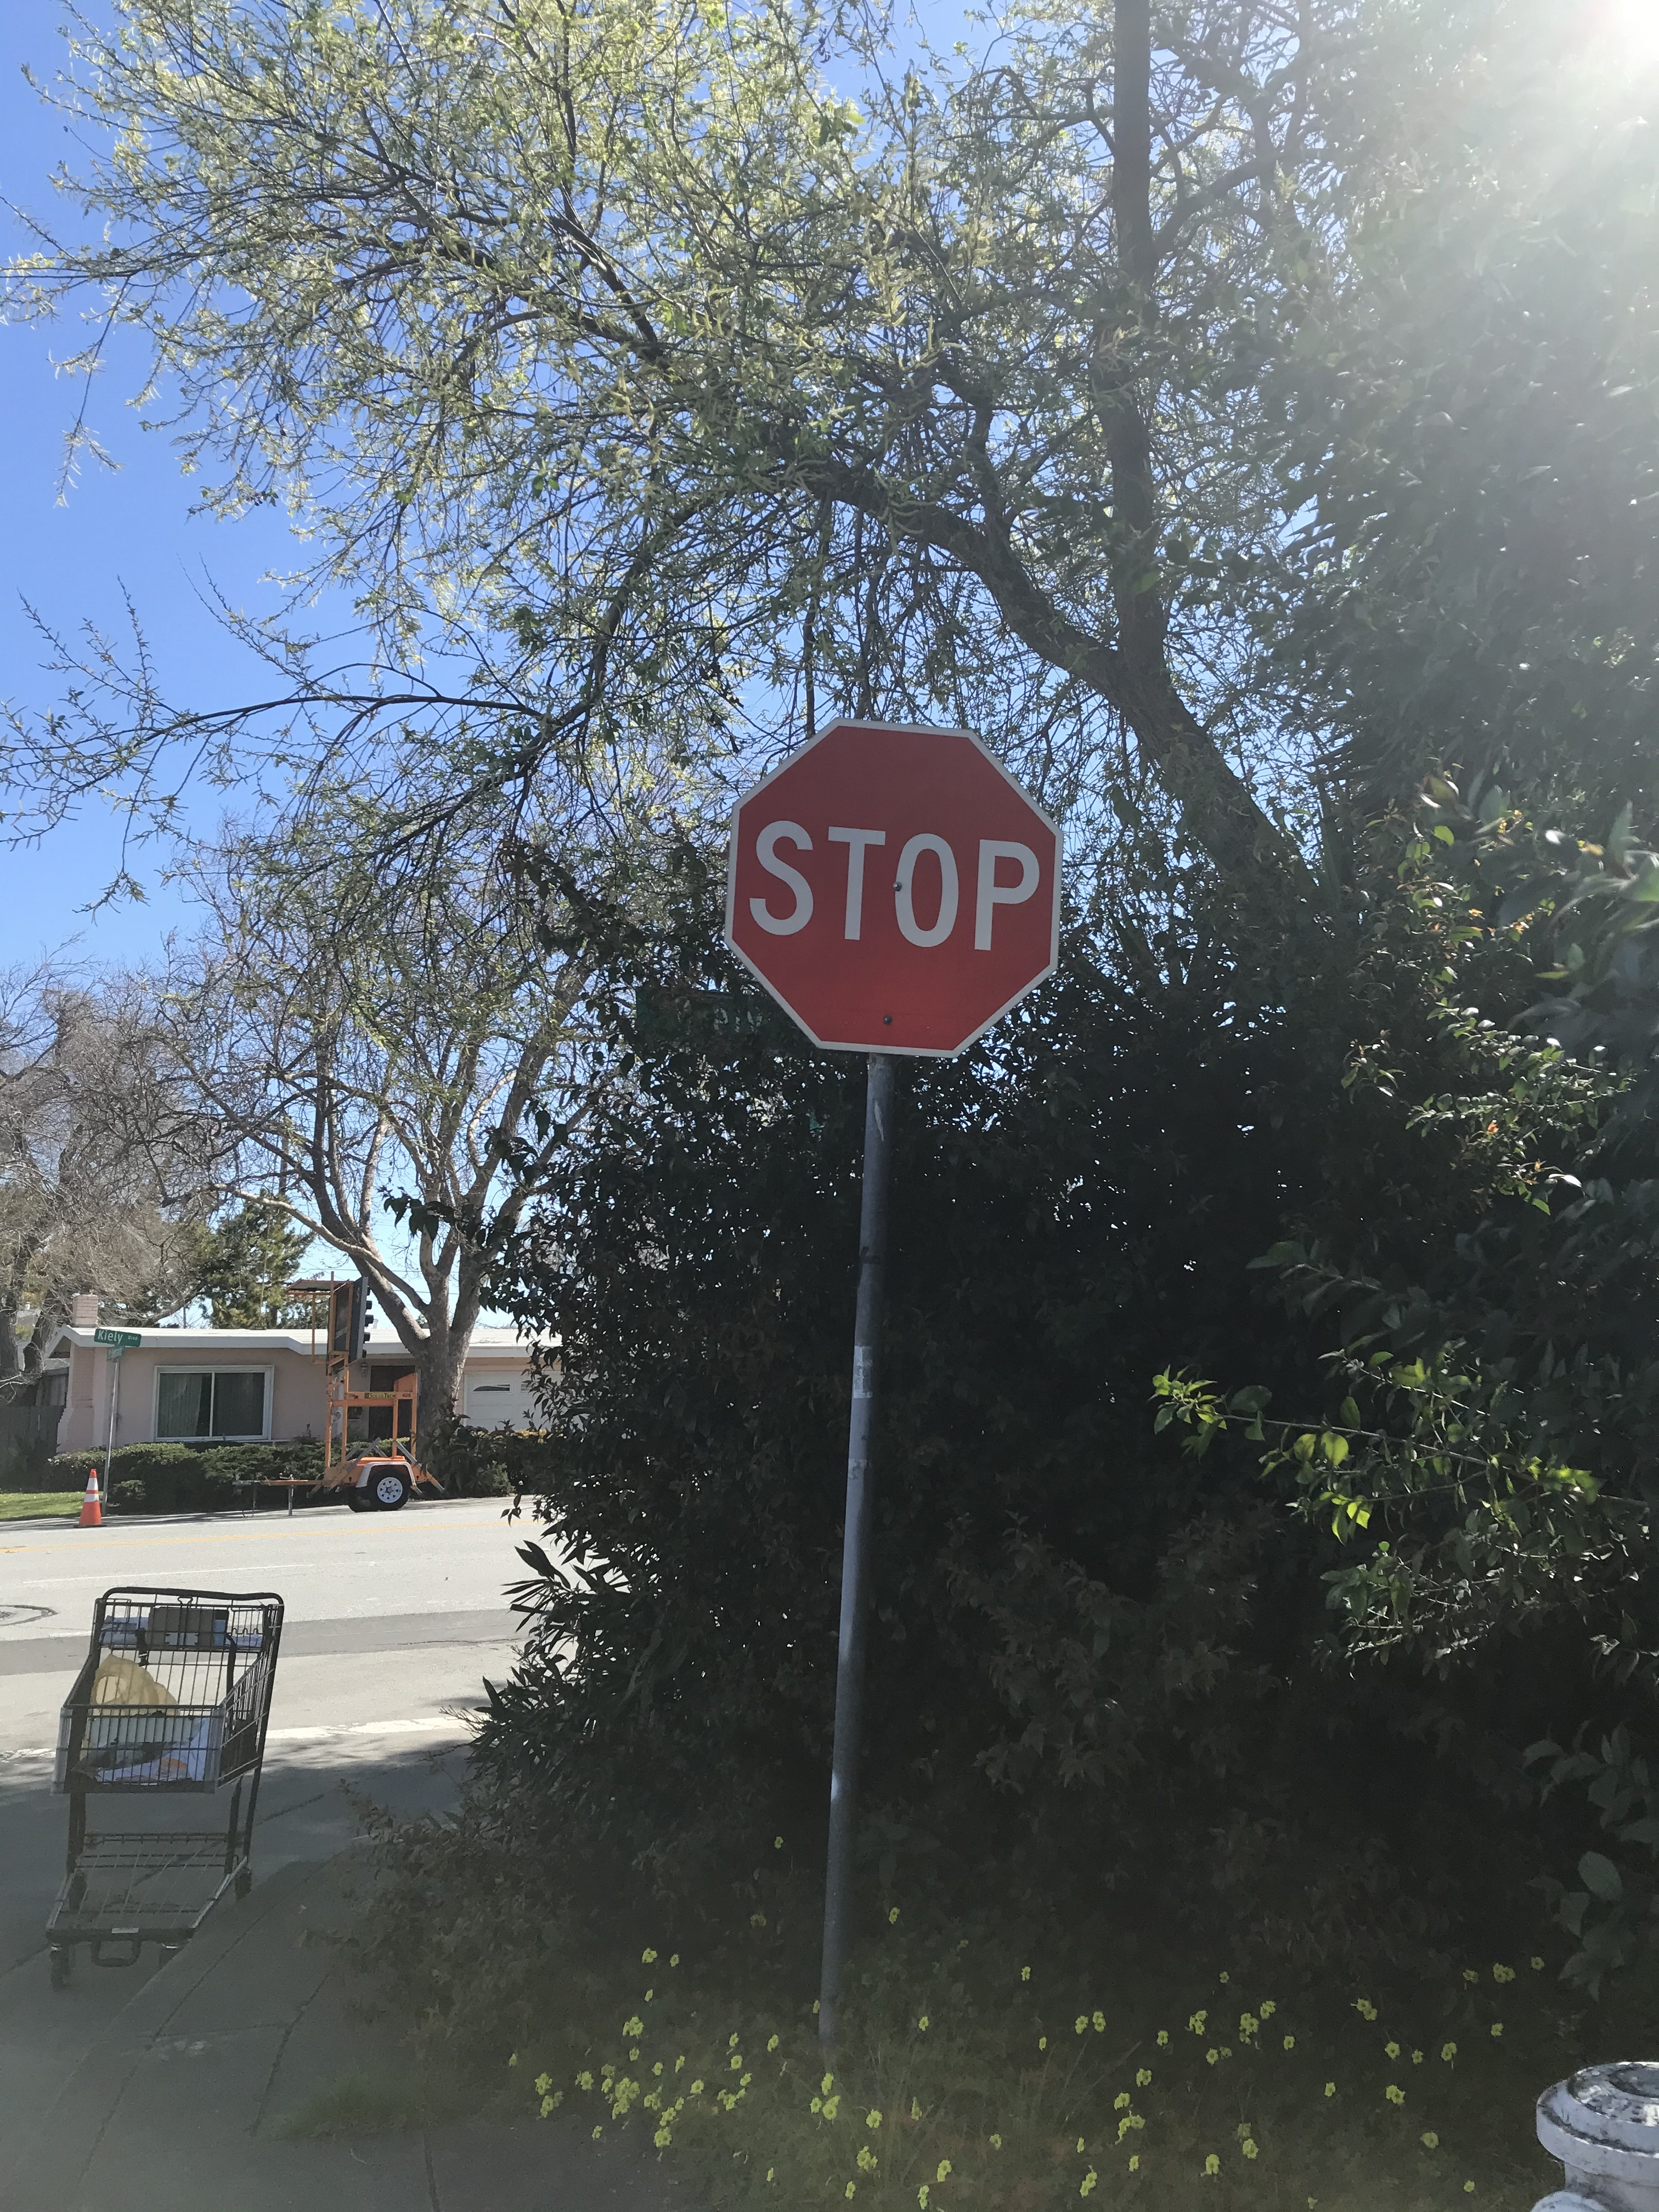stop_sign: (730, 733, 1063, 1061)
